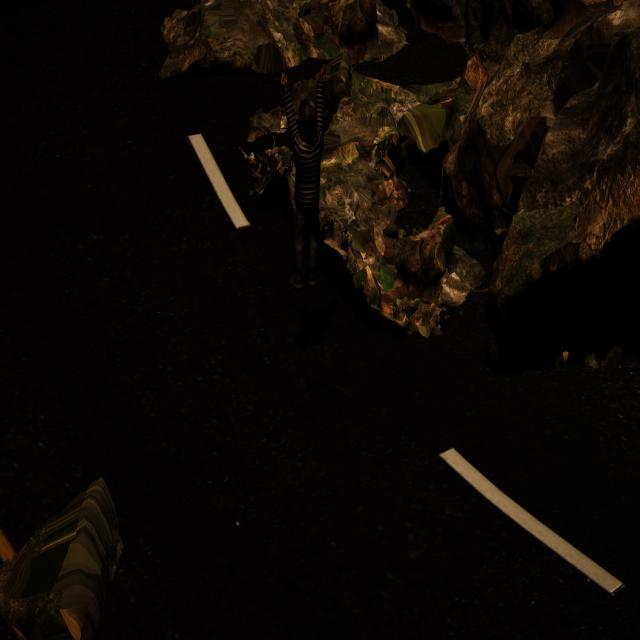Human: (276, 65, 350, 282)
